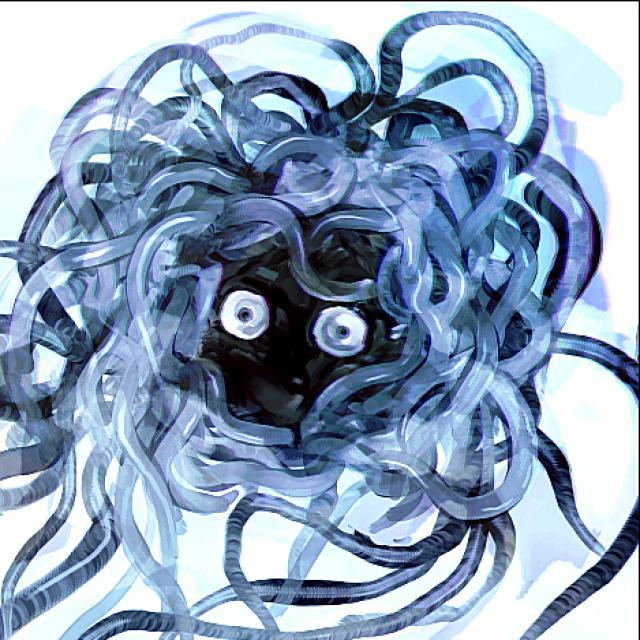Tangela: (43, 86, 558, 531)
